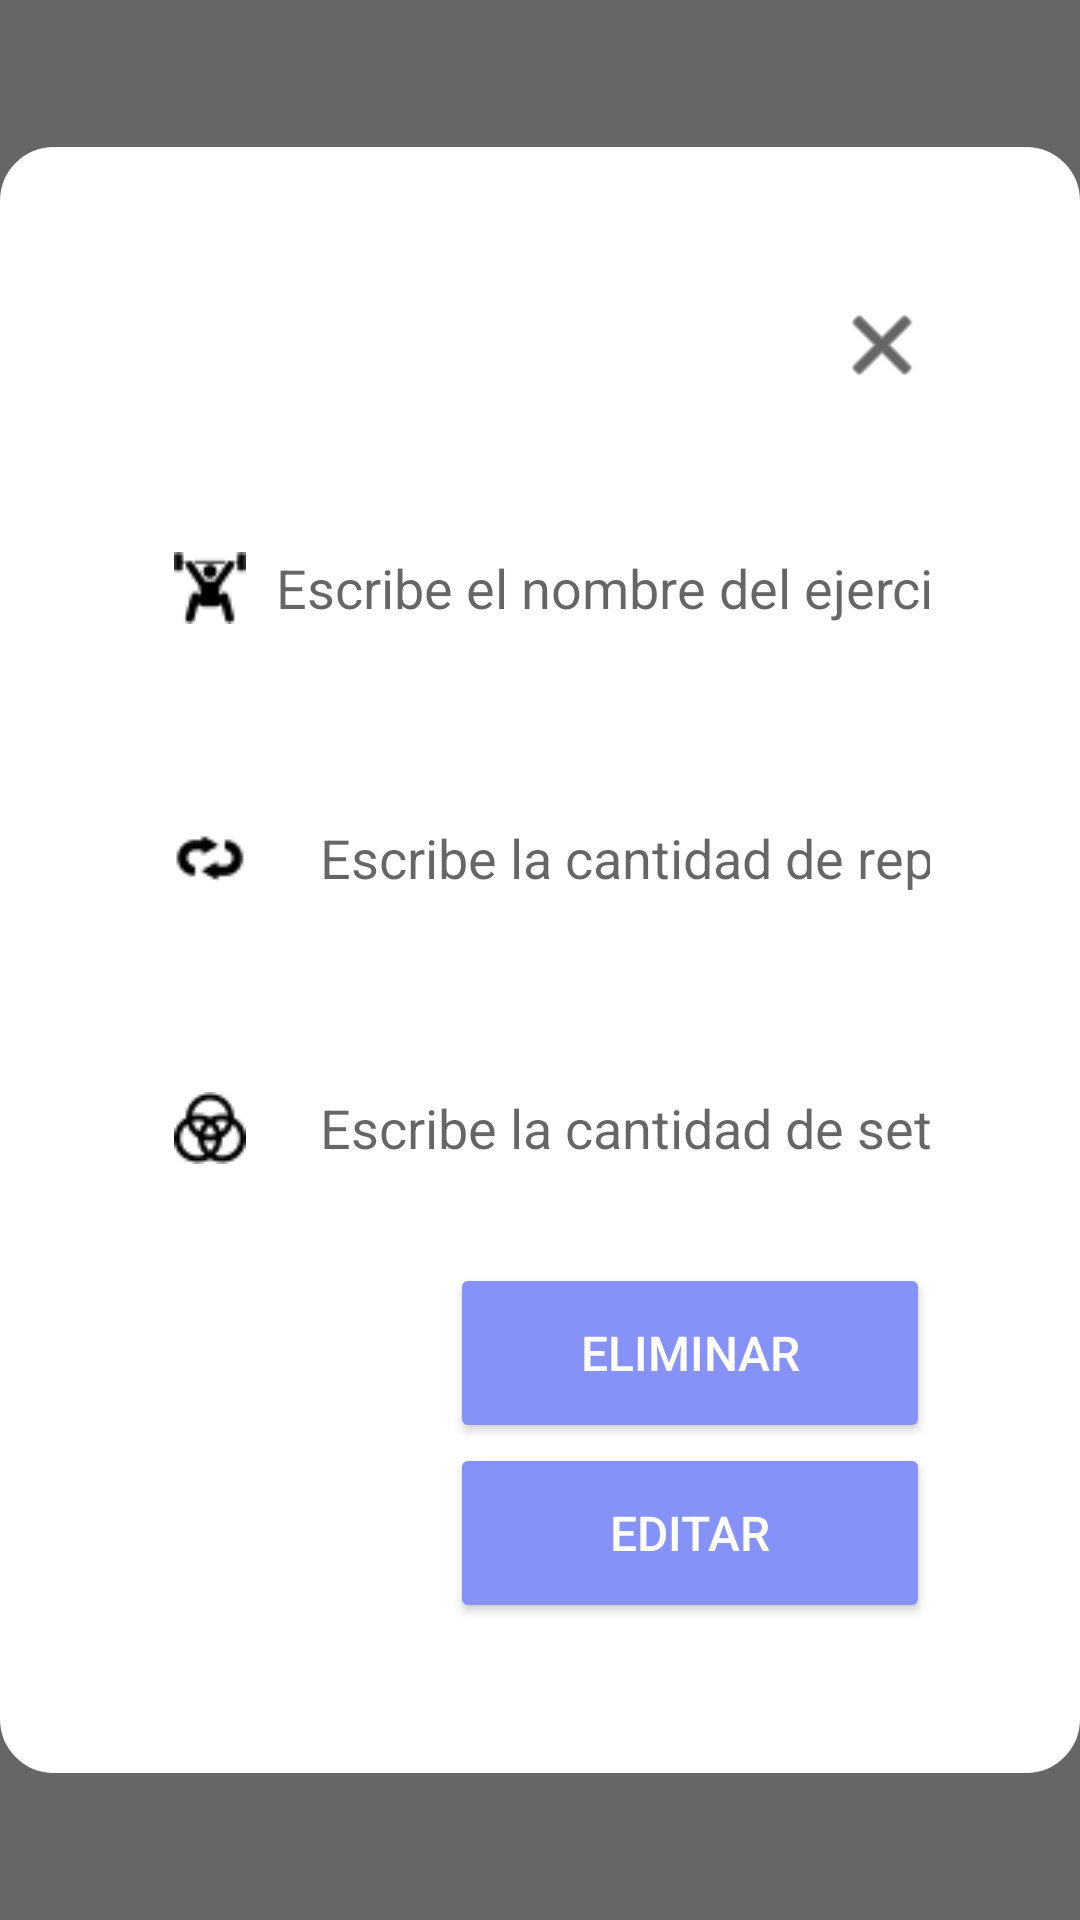

Locate icon controls on the screen. Image size 1080x1920, boxes as BBox(x1, y1, x2, y2).
close clear cancel: BBox(852, 315, 912, 375)
